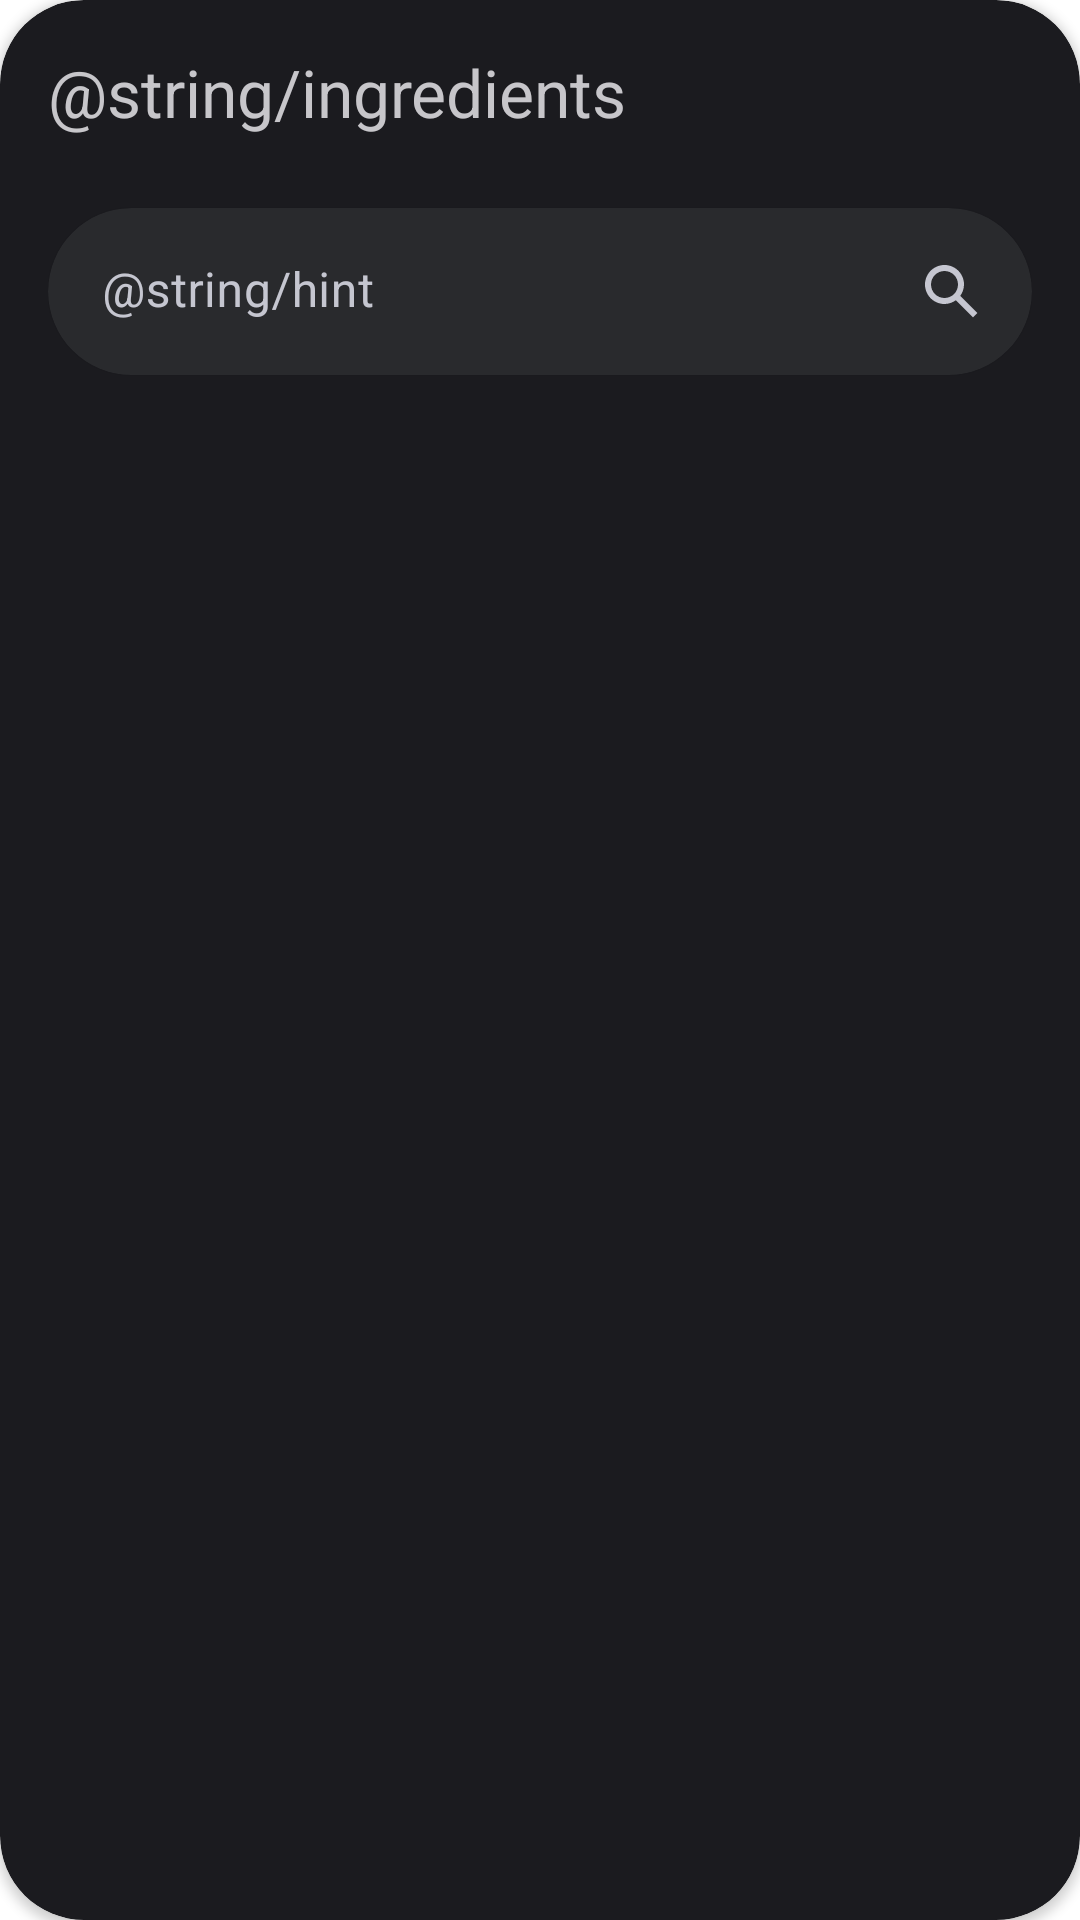

Icon bounding boxes for this 1080px x 1920px phone screenshot, format (x1, y1, x2, y2):
search: (925, 265, 977, 317)
